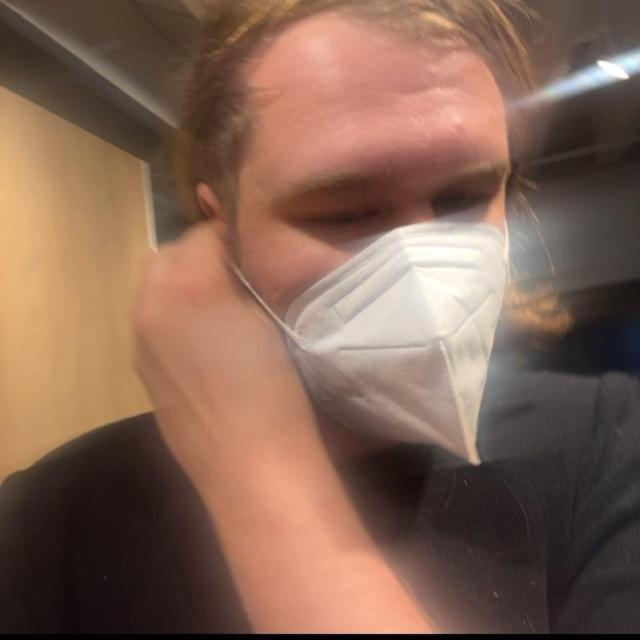no-helmet: (205, 0, 555, 453)
